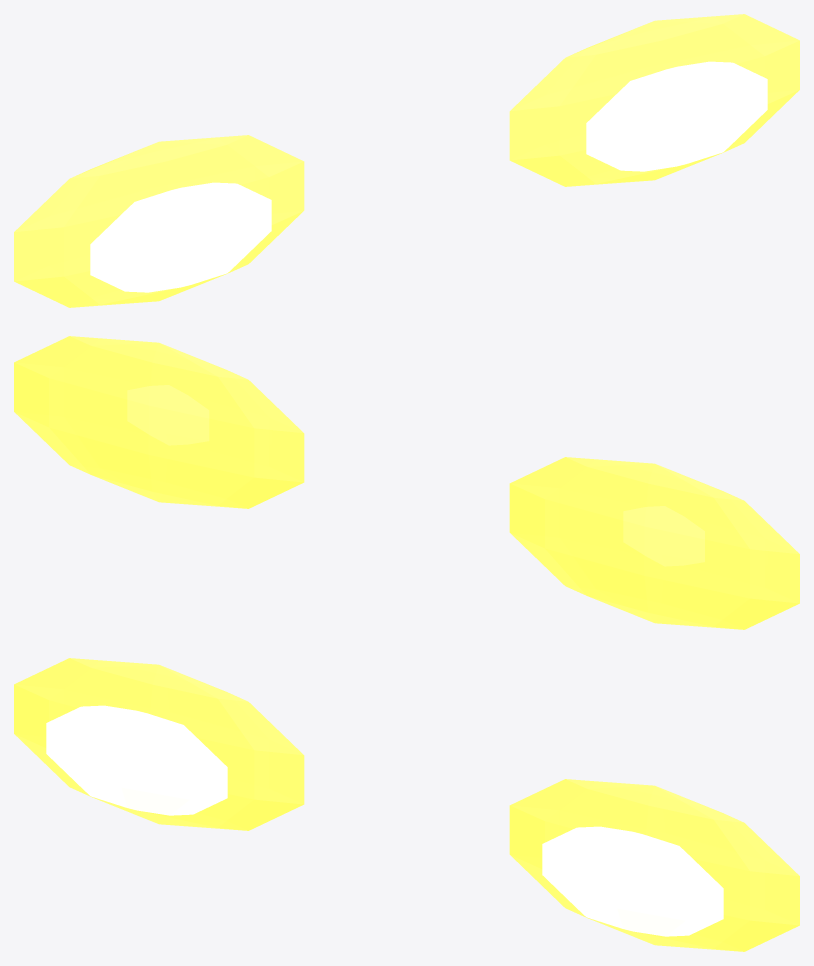
Rendered from sentinel_eyes.glb.
The picture shows the model from 3 angles, top to bottom: view 1: azimuth 30°, elevation 25°; view 2: azimuth 150°, elevation 25°; view 3: azimuth 330°, elevation 25°; orthographic projection.
Parts seen in each view (by area): view 1: sentinel_eyes; view 2: sentinel_eyes; view 3: sentinel_eyes.
Boxes of the visible parts, left/top/right/bottom form: sentinel_eyes: left=14, top=14, right=799, bottom=307; sentinel_eyes: left=14, top=336, right=799, bottom=629; sentinel_eyes: left=14, top=658, right=799, bottom=951.
Bounding box in the file's own units: 0.4122 × 0.08 × 0.0438.
